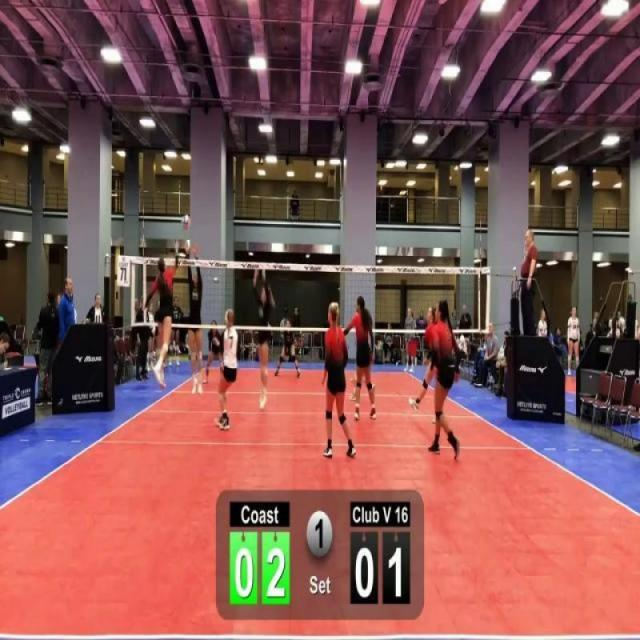volleyball: (179, 212, 190, 233), (618, 315, 626, 329)
